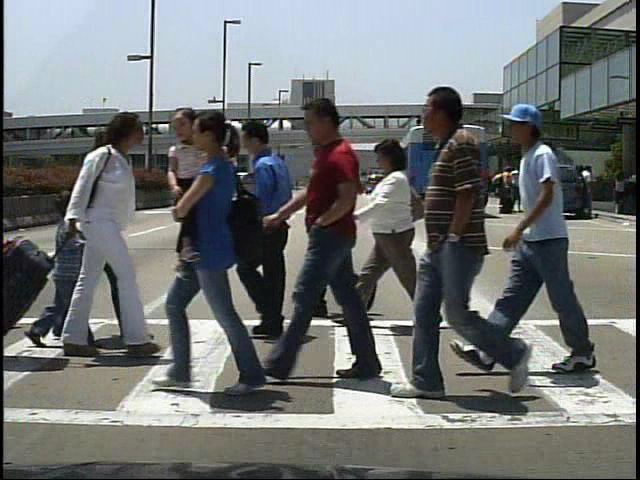person: (413, 84, 535, 419), (49, 113, 160, 362), (300, 94, 384, 385), (220, 122, 319, 346), (505, 102, 584, 378), (351, 136, 446, 335), (301, 130, 373, 322), (73, 114, 128, 361), (20, 195, 89, 357), (582, 168, 602, 218), (496, 165, 514, 218), (508, 166, 527, 215)
